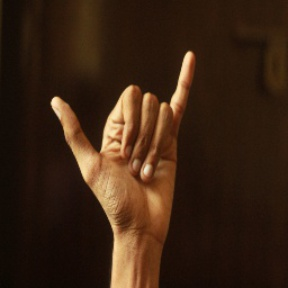J: (46, 44, 195, 229)
